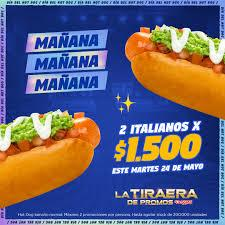Completos: (0, 106, 97, 214), (122, 20, 225, 120)
